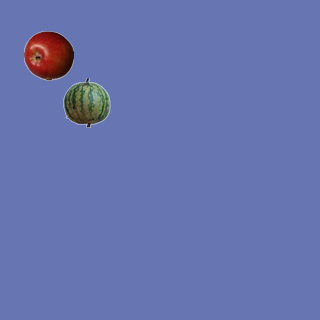Apple Braeburn: (23, 30, 73, 80)
Watermelon: (61, 77, 111, 127)
